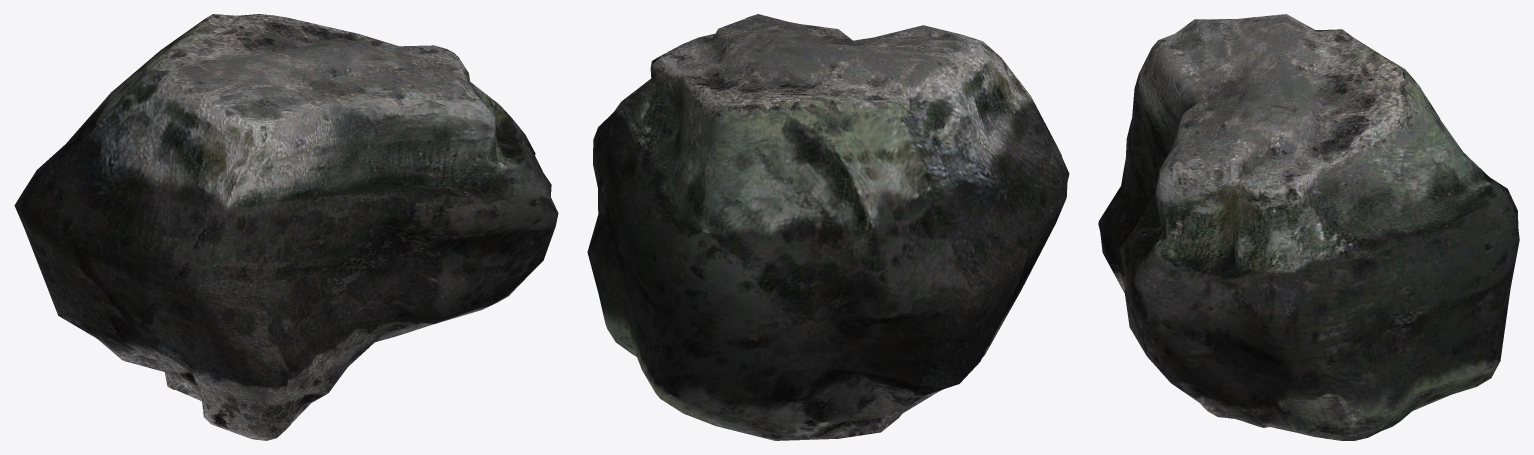
File: brown_riverrock_big_a.fbx
3 views of the same model, side by side, from view 1: azimuth 30°, elevation 25°; view 2: azimuth 150°, elevation 25°; view 3: azimuth 270°, elevation 25° (orthographic). The views are drawn at different scales.
Parts seen in each view (by area): view 1: brown_riverrock_big_a_mesh; view 2: brown_riverrock_big_a_mesh; view 3: brown_riverrock_big_a_mesh.
Boxes of the visible parts, x1,y1,x2,y2 form: brown_riverrock_big_a_mesh: [14, 14, 558, 440]; brown_riverrock_big_a_mesh: [587, 14, 1069, 440]; brown_riverrock_big_a_mesh: [1098, 14, 1519, 440].
Size of the model in its own units: 2.54 by 1.84 by 2.1.
1 material, 1 textured.
